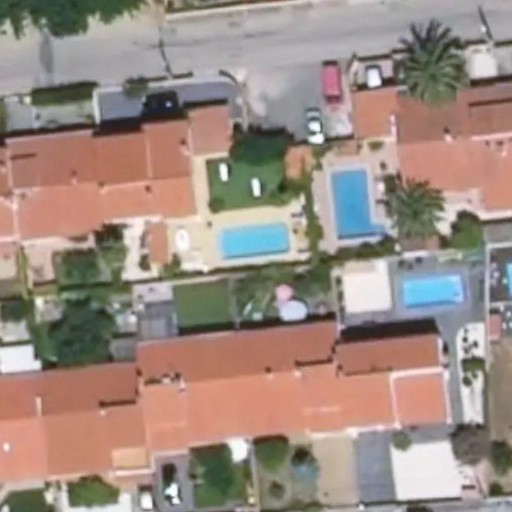pool: (326, 169, 386, 236), (216, 222, 293, 259), (400, 273, 464, 303)
